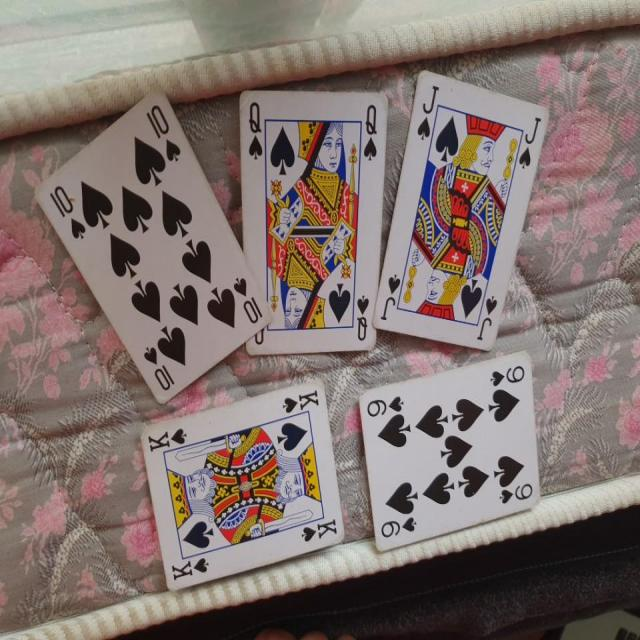10 Spades: (29, 81, 277, 406)
9 Spades: (344, 351, 549, 552)
J Spades: (375, 59, 554, 366)
K Spades: (135, 375, 351, 609)
Q Spades: (233, 70, 380, 364)
